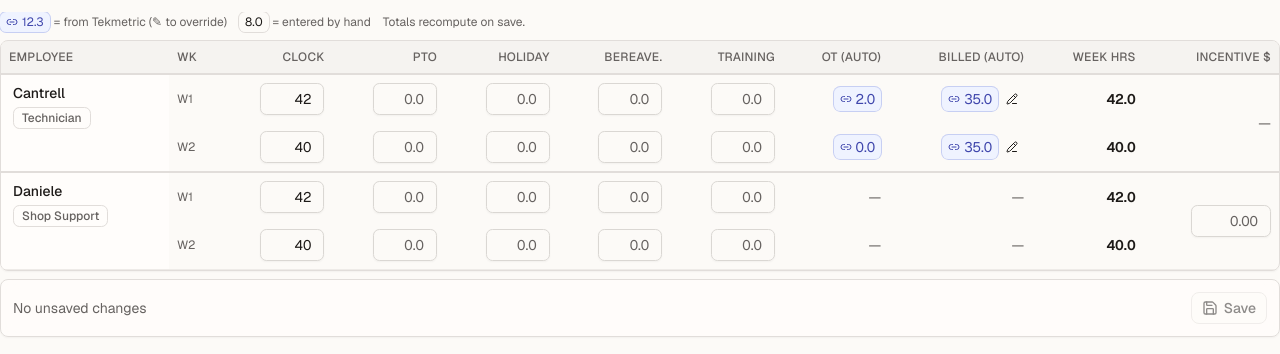
Test case: EntryGrid › keeps ALL dirty state and surfaces the error when the atomic batch fails
This screenshot has width=1280, height=354.
Type "8" into the field named "Cantrell week 1 pto hours". click: [405, 99]
box: [373, 83, 437, 115]
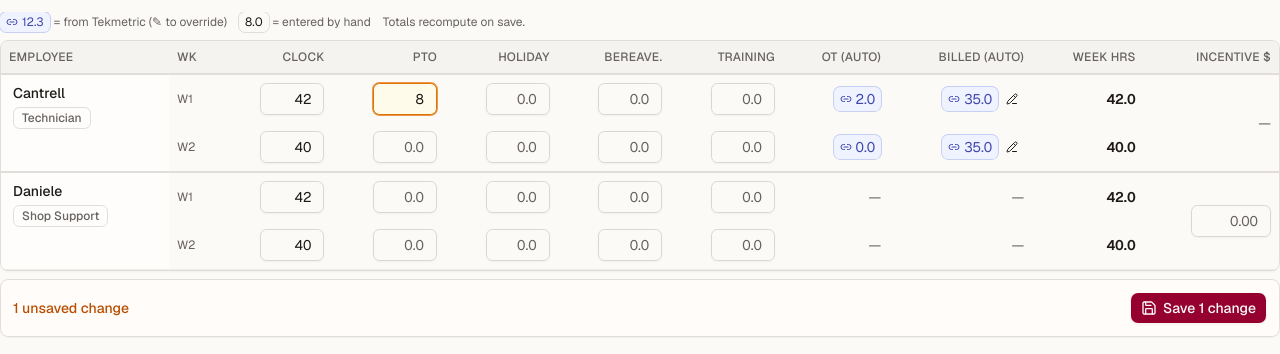
Replace the text in the field named "Daniele week 2 clock hours" with "38". click: [292, 245]
box: [260, 229, 324, 261]
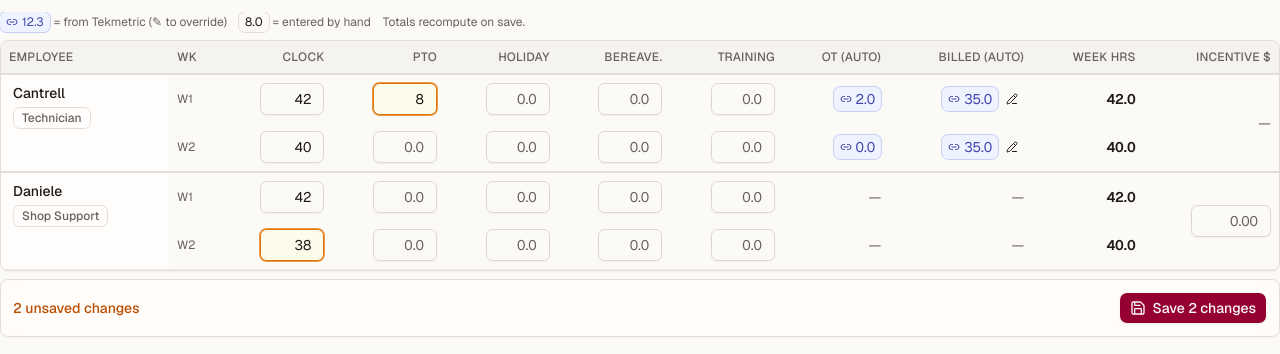
Click the button "Save 2 changes". click: [1193, 308]
box: [1119, 292, 1267, 324]
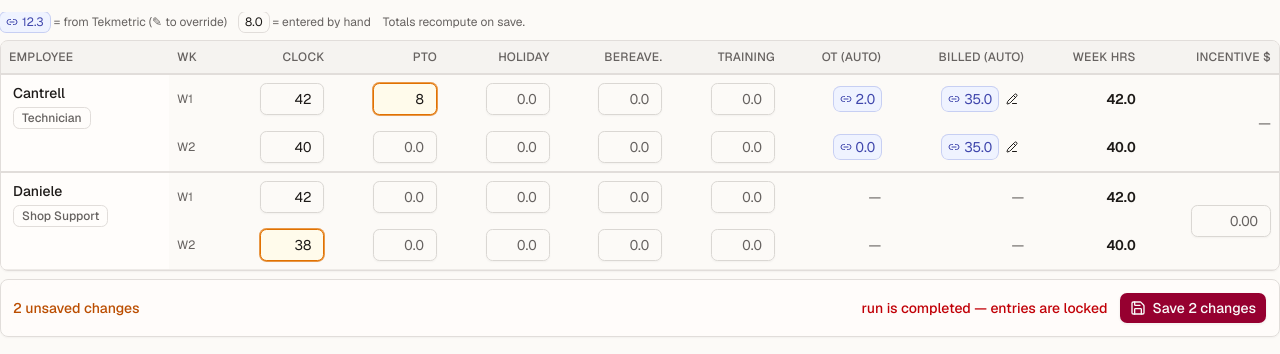
Now the button "Save 2 changes" is enabled, box [1119, 292, 1267, 324]
Now the message shows "entries are locked", box [862, 299, 1107, 317]
